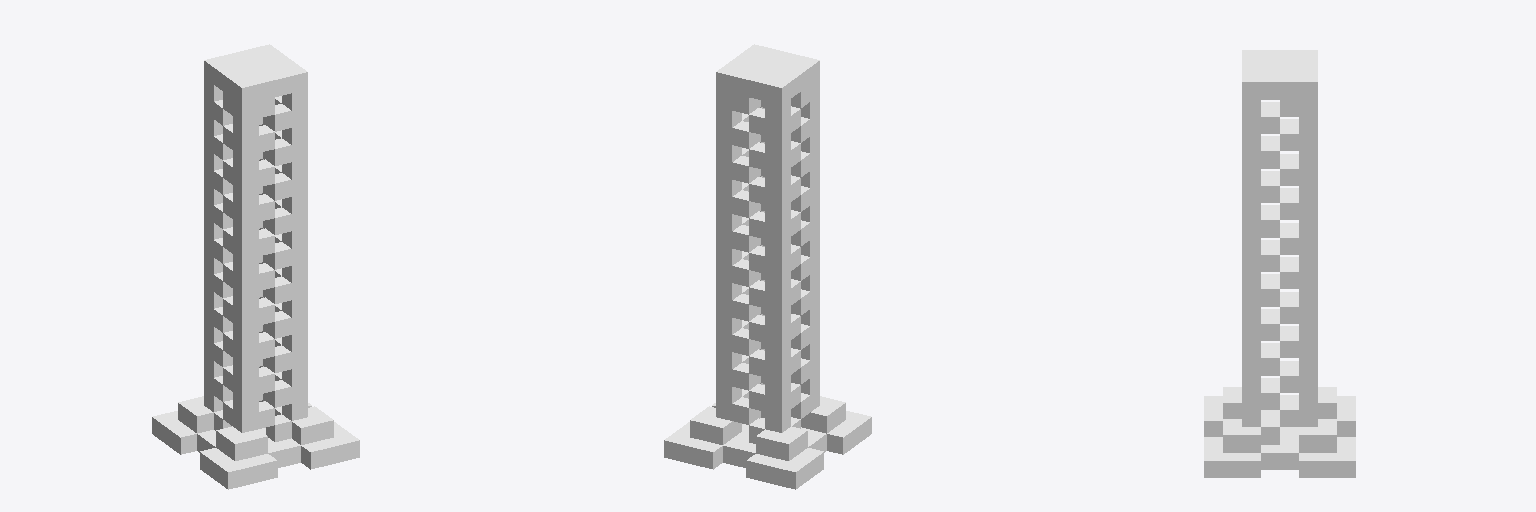
Rendered from pillar_griffin_station_v1.obj.
3 views of the same model, side by side, from view 1: azimuth 30°, elevation 25°; view 2: azimuth 150°, elevation 25°; view 3: azimuth 270°, elevation 25° (orthographic).
Parts seen in each view (by area): view 1: object 1; view 2: object 1; view 3: object 1.
Boxes of the visible parts, x1,y1,x2,y2 form: object 1: [152, 44, 359, 489]; object 1: [664, 44, 871, 489]; object 1: [1204, 50, 1355, 477].
Size of the model in its own units: 0.8 by 2.2 by 0.8.